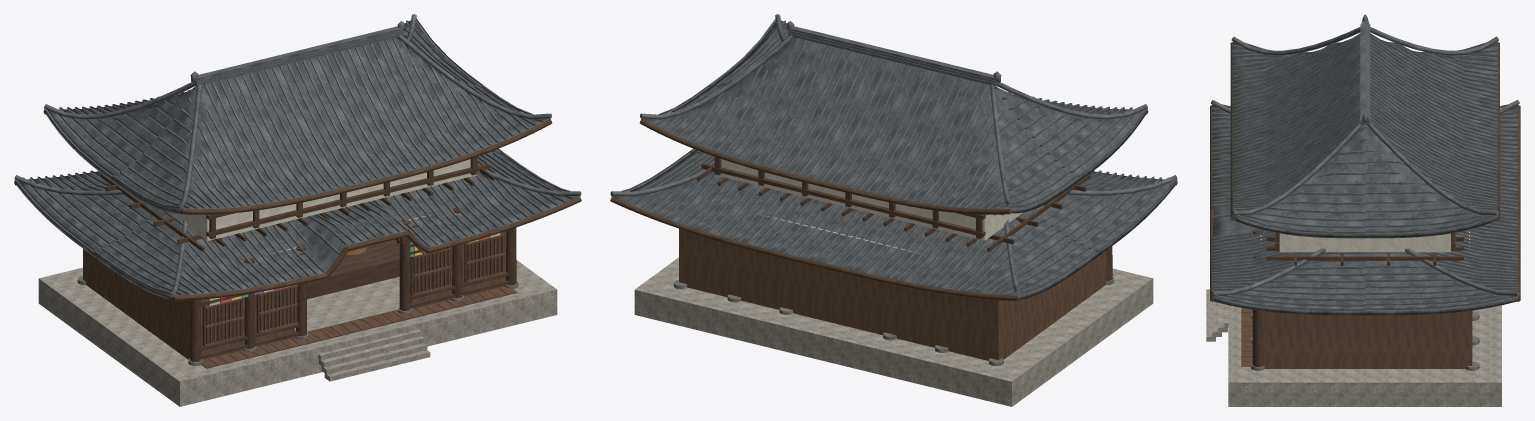
The model's file is toji_kondo.glb.
3 views of the same model, side by side, from view 1: azimuth 30°, elevation 25°; view 2: azimuth 150°, elevation 25°; view 3: azimuth 270°, elevation 25° (orthographic). The views are drawn at different scales.
Parts seen in each view (by area): view 1: TojiMerged_Toji_KawaraDark_KondoPBR, TojiMerged_Toji_KawaraRidge_KondoPBR, TojiMerged_Toji_GraniteLight_KondoPBR, TojiMerged_Toji_TimberDark_KondoPBR, TojiMerged_Toji_TimberMid_KondoPBR, TojiMerged_Toji_ShikkuiWhite_KondoPBR; view 2: TojiMerged_Toji_KawaraDark_KondoPBR, TojiMerged_Toji_KawaraRidge_KondoPBR, TojiMerged_Toji_GraniteLight_KondoPBR, TojiMerged_Toji_TimberMid_KondoPBR, TojiMerged_Toji_TimberDark_KondoPBR, TojiMerged_Toji_ShikkuiWhite_KondoPBR, TojiMerged_Toji_GraniteDark_KondoPBR; view 3: TojiMerged_Toji_KawaraRidge_KondoPBR, TojiMerged_Toji_KawaraDark_KondoPBR, TojiMerged_Toji_GraniteLight_KondoPBR, TojiMerged_Toji_TimberMid_KondoPBR, TojiMerged_Toji_TimberDark_KondoPBR, TojiMerged_Toji_ShikkuiWhite_KondoPBR, TojiMerged_Toji_GraniteDark_KondoPBR.
Boxes of the visible parts, x1,y1,x2,y2 form: TojiMerged_Toji_KawaraDark_KondoPBR: (15,20,580,299); TojiMerged_Toji_KawaraRidge_KondoPBR: (14,14,581,295); TojiMerged_Toji_GraniteLight_KondoPBR: (38,260,557,406); TojiMerged_Toji_TimberDark_KondoPBR: (14,20,581,361); TojiMerged_Toji_TimberMid_KondoPBR: (83,129,569,368); TojiMerged_Toji_ShikkuiWhite_KondoPBR: (169,159,500,305); TojiMerged_Toji_KawaraDark_KondoPBR: (611,20,1176,299); TojiMerged_Toji_KawaraRidge_KondoPBR: (610,14,1177,295); TojiMerged_Toji_GraniteLight_KondoPBR: (634,257,1153,406); TojiMerged_Toji_TimberMid_KondoPBR: (622,129,1113,360); TojiMerged_Toji_TimberDark_KondoPBR: (610,20,1177,300); TojiMerged_Toji_ShikkuiWhite_KondoPBR: (715,159,1022,254); TojiMerged_Toji_GraniteDark_KondoPBR: (673,277,1114,366); TojiMerged_Toji_KawaraRidge_KondoPBR: (1210,14,1519,310); TojiMerged_Toji_KawaraDark_KondoPBR: (1212,35,1518,315); TojiMerged_Toji_GraniteLight_KondoPBR: (1206,289,1501,406); TojiMerged_Toji_TimberMid_KondoPBR: (1241,308,1472,368); TojiMerged_Toji_TimberDark_KondoPBR: (1210,42,1520,366); TojiMerged_Toji_ShikkuiWhite_KondoPBR: (1260,231,1469,252); TojiMerged_Toji_GraniteDark_KondoPBR: (1250,312,1479,370).
Size of the model in its own units: 19.77 by 12.13 by 13.56.
Materials: 21 (9 with a texture image).
